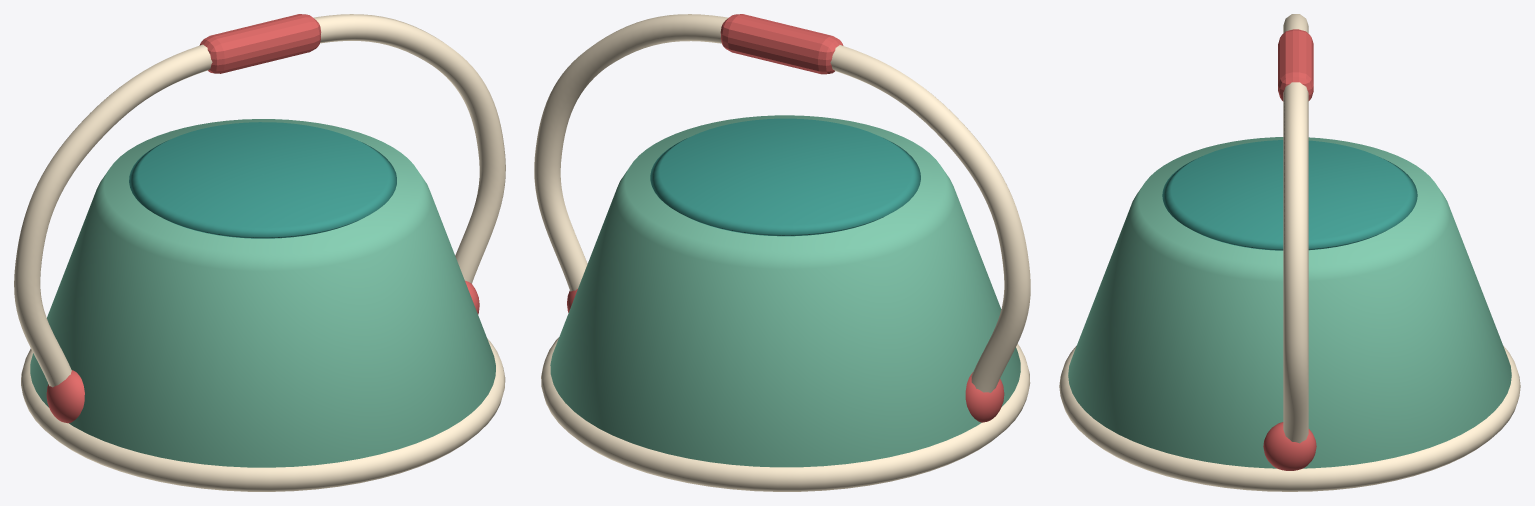
The model's file is bucket.glb.
3 views of the same model, side by side, from view 1: azimuth 30°, elevation 25°; view 2: azimuth 150°, elevation 25°; view 3: azimuth 270°, elevation 25° (orthographic). The views are drawn at different scales.
Parts seen in each view (by area): view 1: BLIP_Hat_Bucket; view 2: BLIP_Hat_Bucket; view 3: BLIP_Hat_Bucket.
Part boxes in pixels (x1,y1,x2,y2): BLIP_Hat_Bucket: (14, 14, 505, 491); BLIP_Hat_Bucket: (534, 14, 1030, 491); BLIP_Hat_Bucket: (1059, 14, 1520, 491).
Size of the model in its own units: 1.81 by 1.29 by 1.55.
